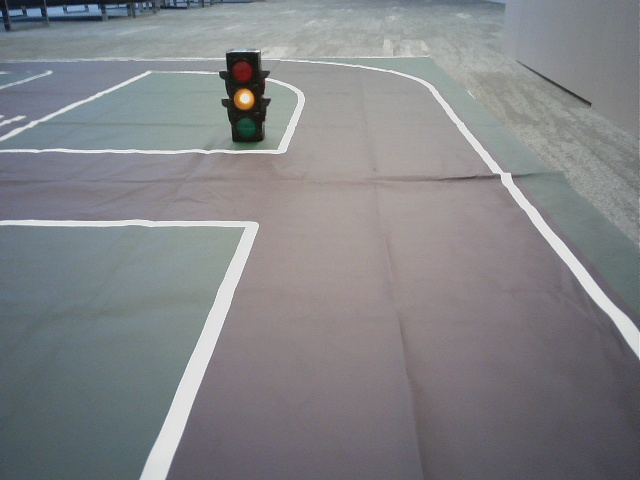yellow: (229, 55, 258, 140)
